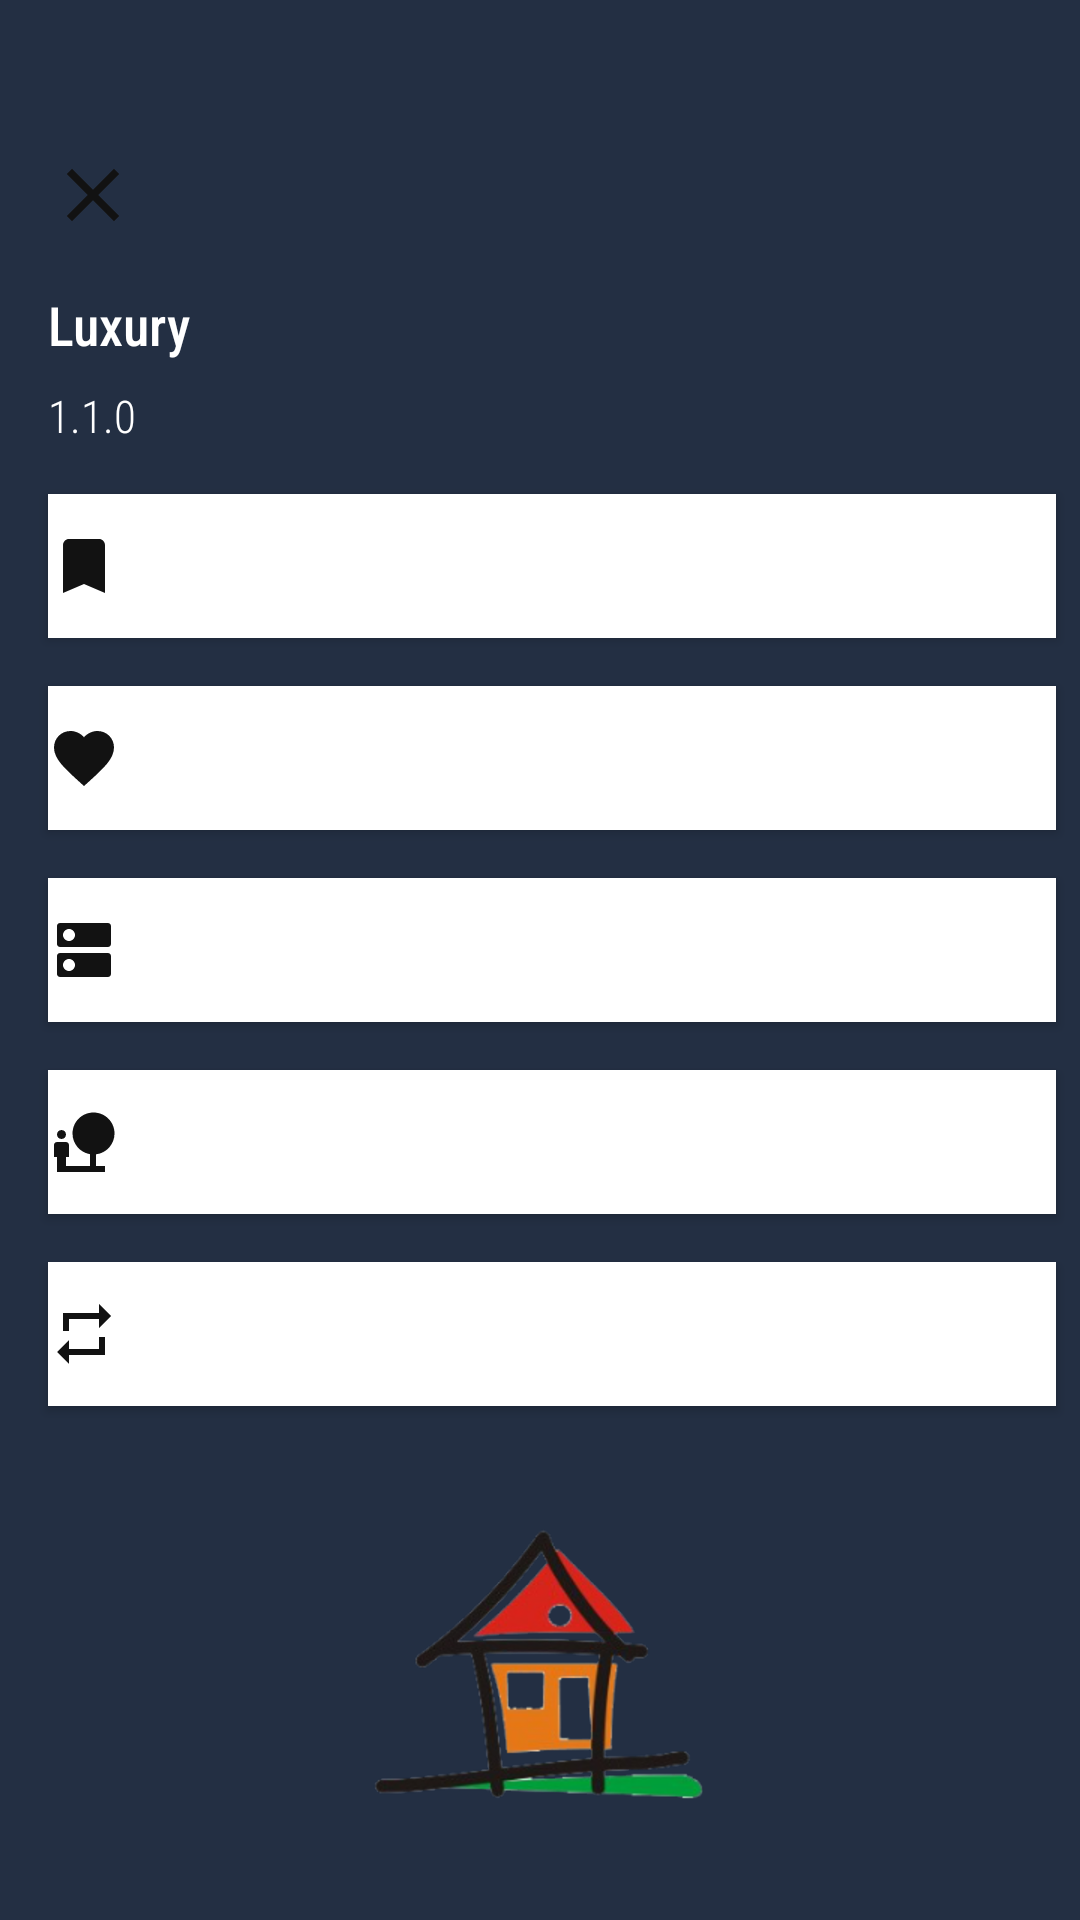

Screen size 1080*1920. Icon name, then its center in pixels as (x,y):
close: (93,195)
